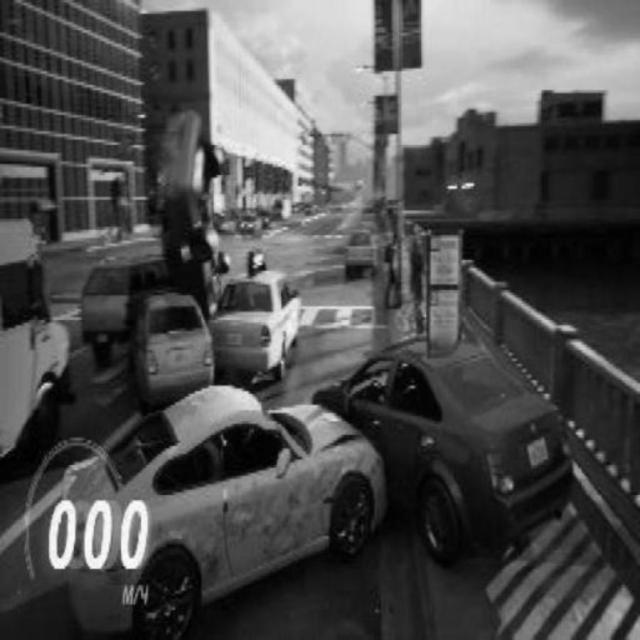accident: (75, 361, 579, 597), (82, 230, 299, 404)
vehicle: (338, 222, 379, 286)
